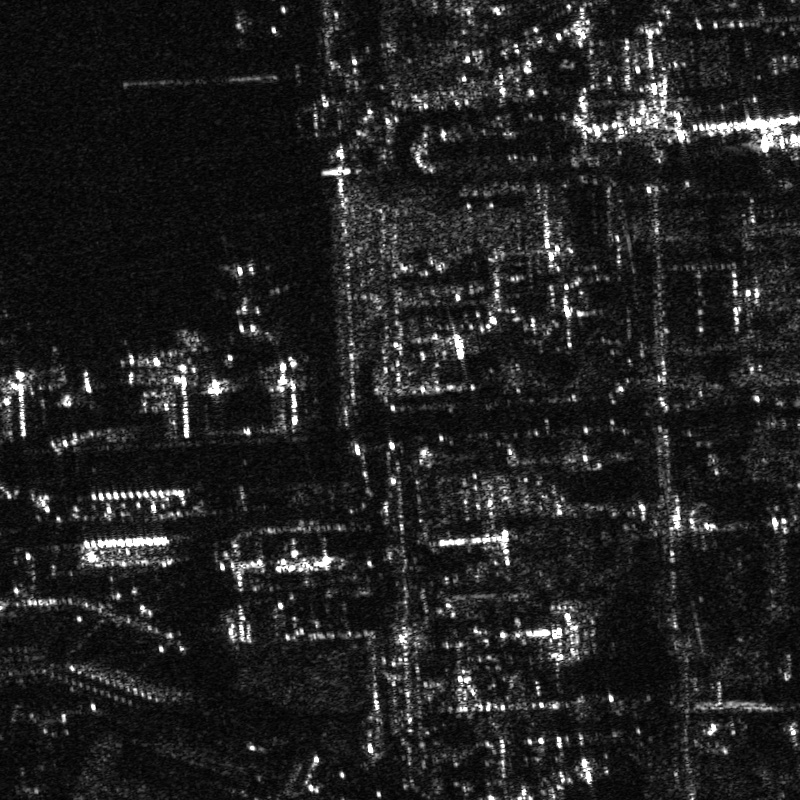A220: (205, 259, 297, 344)
